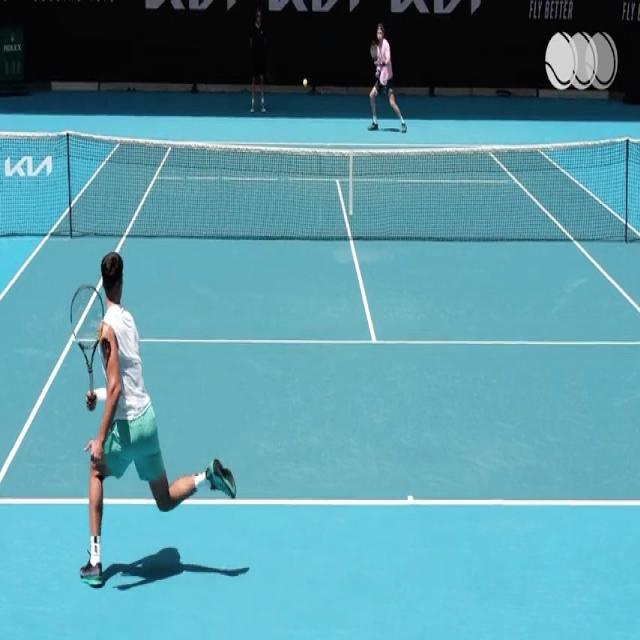forehand-finish: (74, 213, 220, 576)
